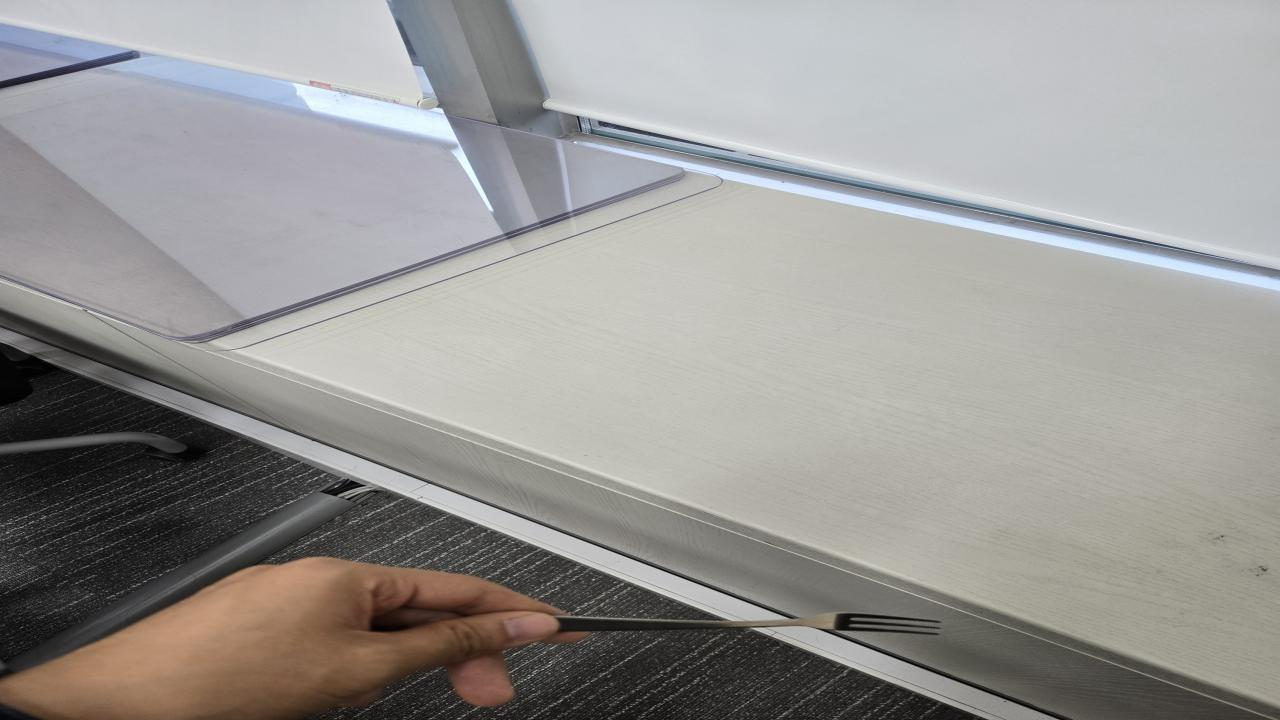fork: (564, 612, 944, 636)
